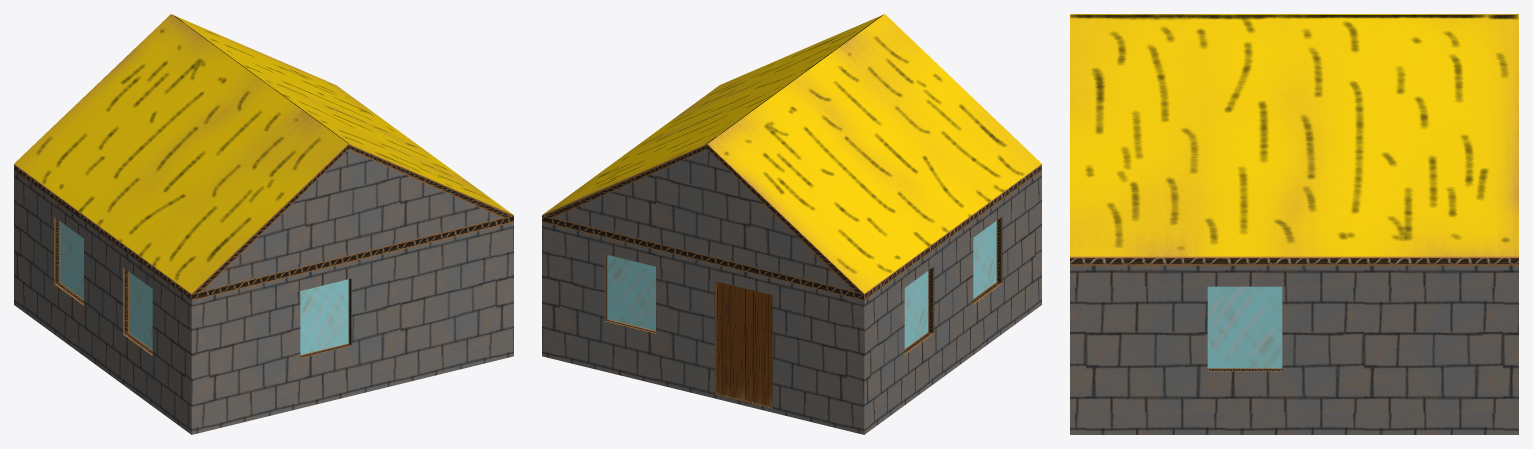
Rendered from HouseNoEnter2.fbx.
3 views of the same model, side by side, from view 1: azimuth 30°, elevation 25°; view 2: azimuth 150°, elevation 25°; view 3: azimuth 270°, elevation 25° (orthographic). The views are drawn at different scales.
Parts seen in each view (by area): view 1: pCube10; view 2: pCube10; view 3: pCube10.
Part boxes in pixels (<box>): pCube10: <box>14,14,513,434</box>; pCube10: <box>542,14,1041,434</box>; pCube10: <box>1070,14,1518,434</box>.
Size of the model in its own units: 6.28 by 4.71 by 6.
